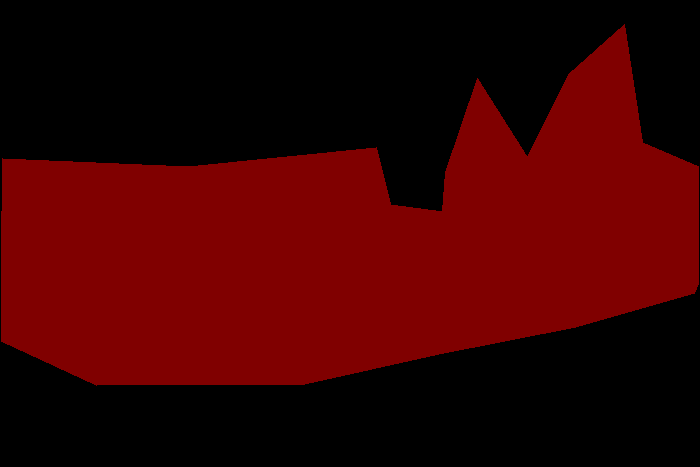fire: (1, 24, 698, 385)
